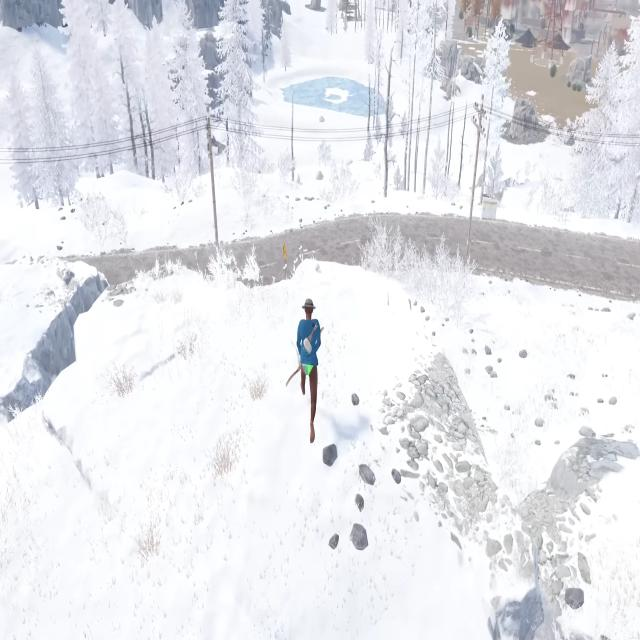Player: (295, 296, 323, 448)
